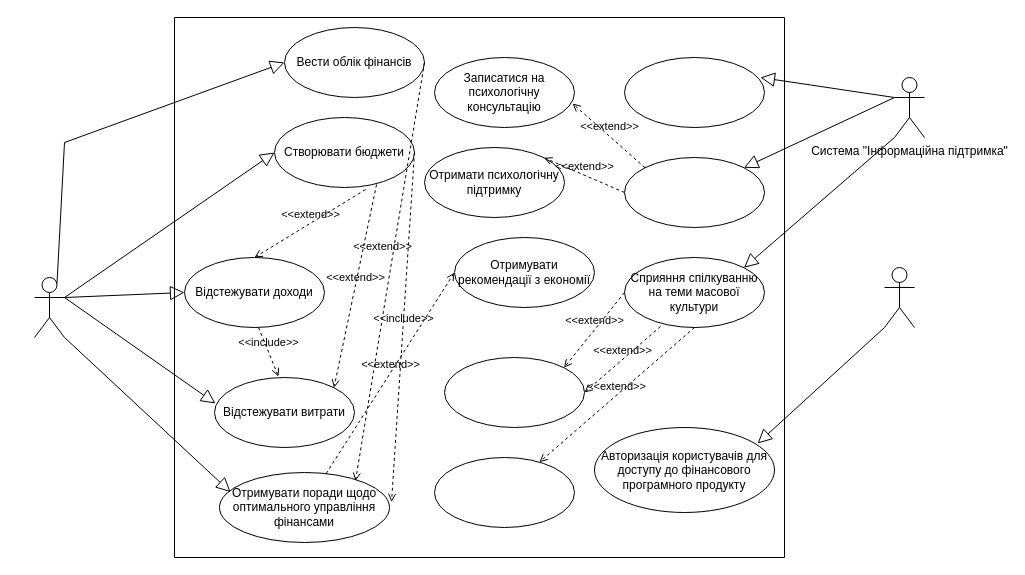
Image size: 1025x575. Some labels were removed from this diagram. The box of each missing label's shape, as (x1, y1, x2, y2) in pixels:
Користувач: (34, 276, 64, 338)
Надання належної освітленості: (624, 56, 764, 128)
Приєднатися до обговорення: (444, 356, 584, 428)
Психологічна підтримка: (624, 156, 764, 228)
Система аутентифікації/авторизації: (884, 266, 914, 328)
Створити новий тематичний пост: (434, 456, 574, 528)
